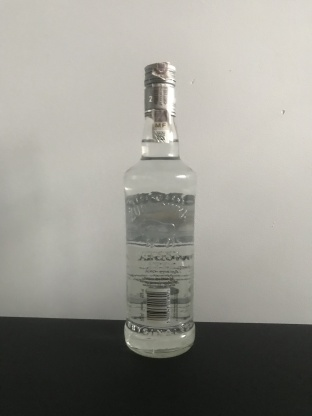nakretka: (142, 60, 177, 118)
